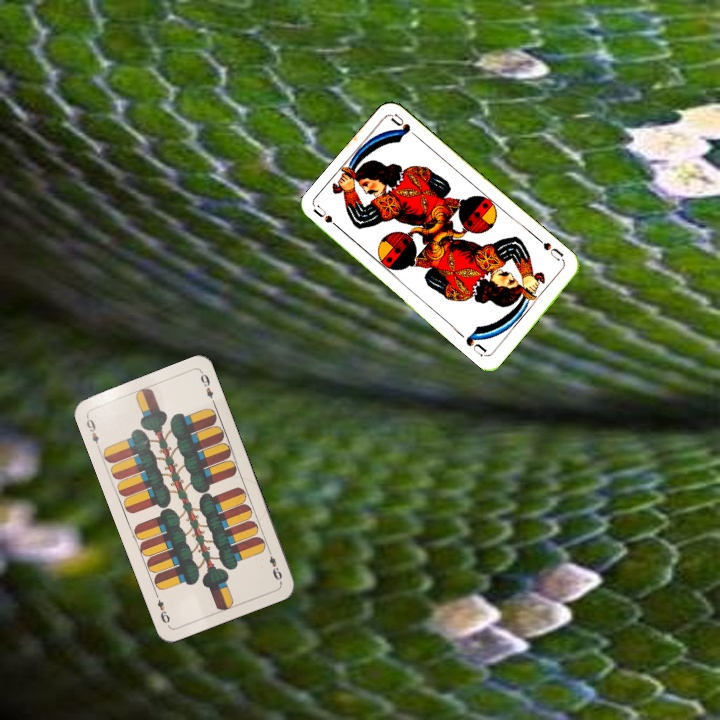E9: (263, 545, 285, 584), (82, 412, 103, 452)
SU: (310, 202, 346, 234), (534, 234, 567, 265)
